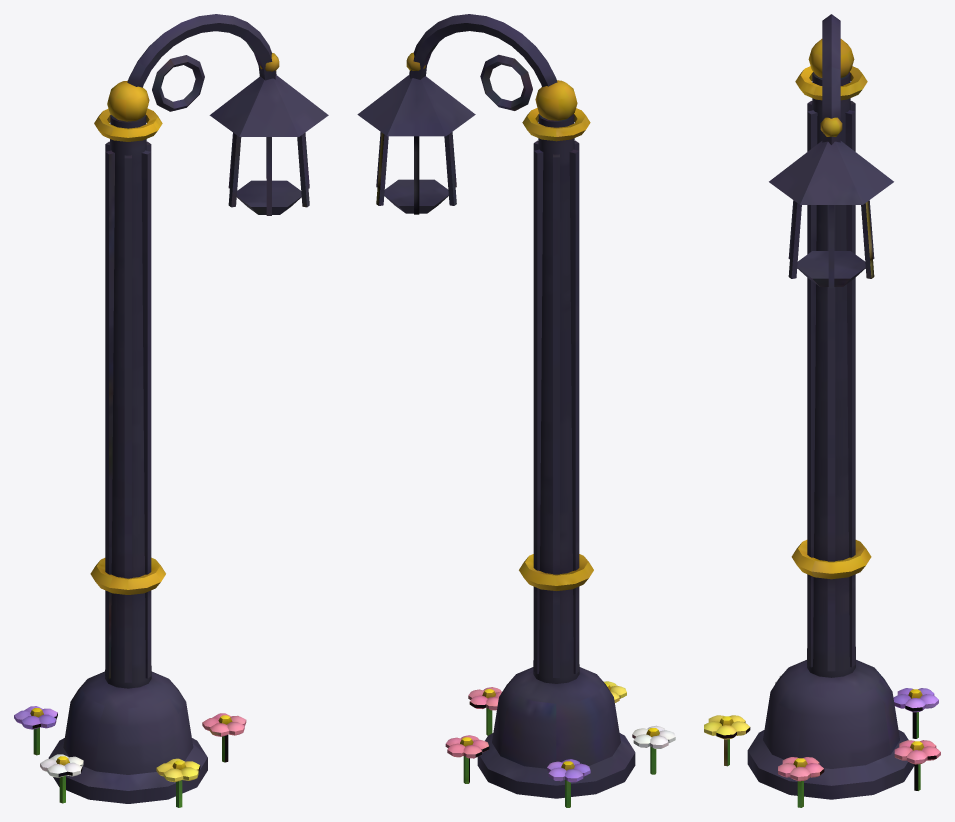
File: streetLamp.glb
3 views of the same model, side by side, from view 1: azimuth 30°, elevation 25°; view 2: azimuth 150°, elevation 25°; view 3: azimuth 270°, elevation 25° (orthographic). The views are drawn at different scales.
Parts seen in each view (by area): view 1: lathe; view 2: lathe; view 3: lathe.
Part boxes in pixels (left/top/right/bottom): lathe: left=14, top=14, right=328, bottom=807; lathe: left=357, top=14, right=675, bottom=807; lathe: left=704, top=14, right=940, bottom=807.
Bounding box in the file's own units: 1.82 × 4.5 × 1.24.
1 material, 1 textured.
